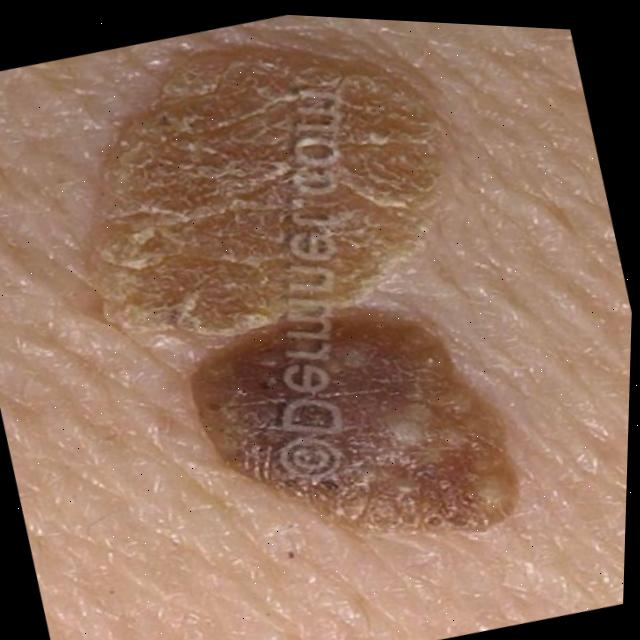Eczema: (63, 6, 518, 583)
